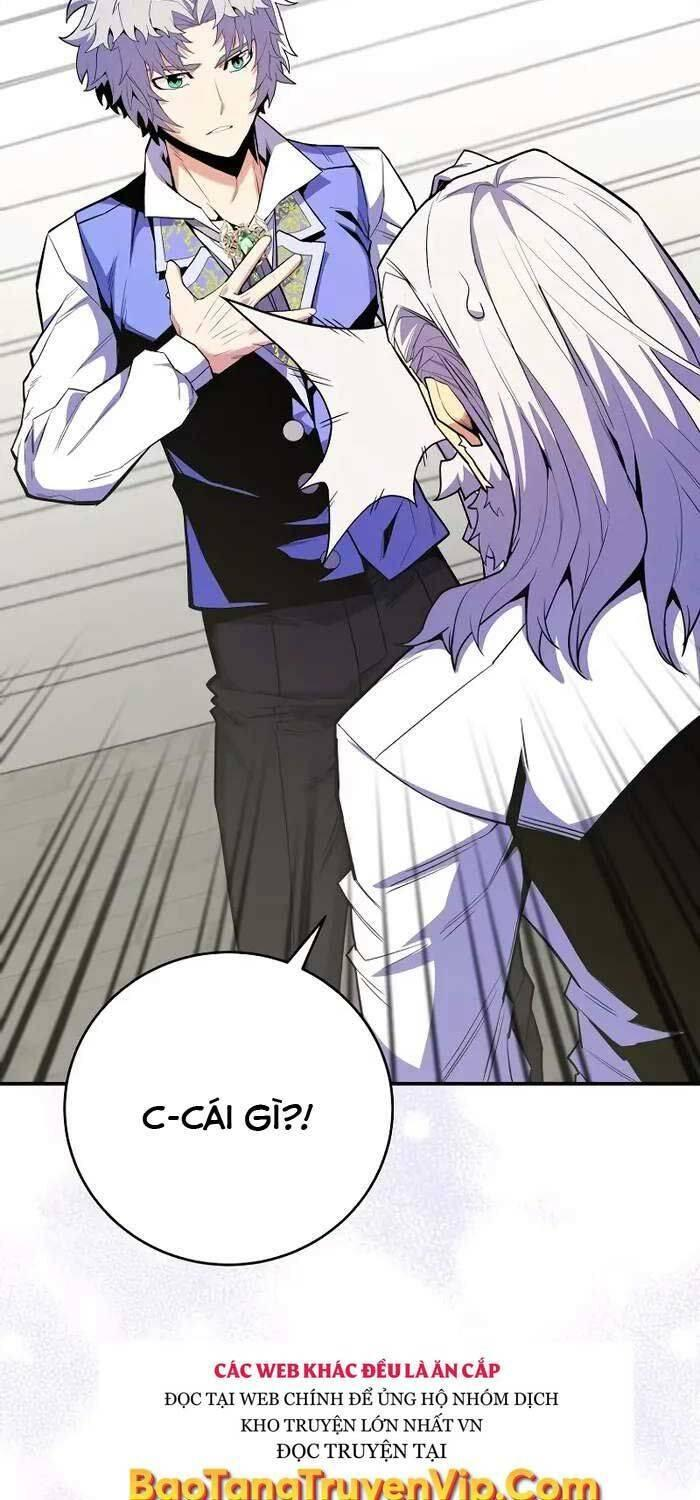quangcao: (122, 1350, 626, 1500)
